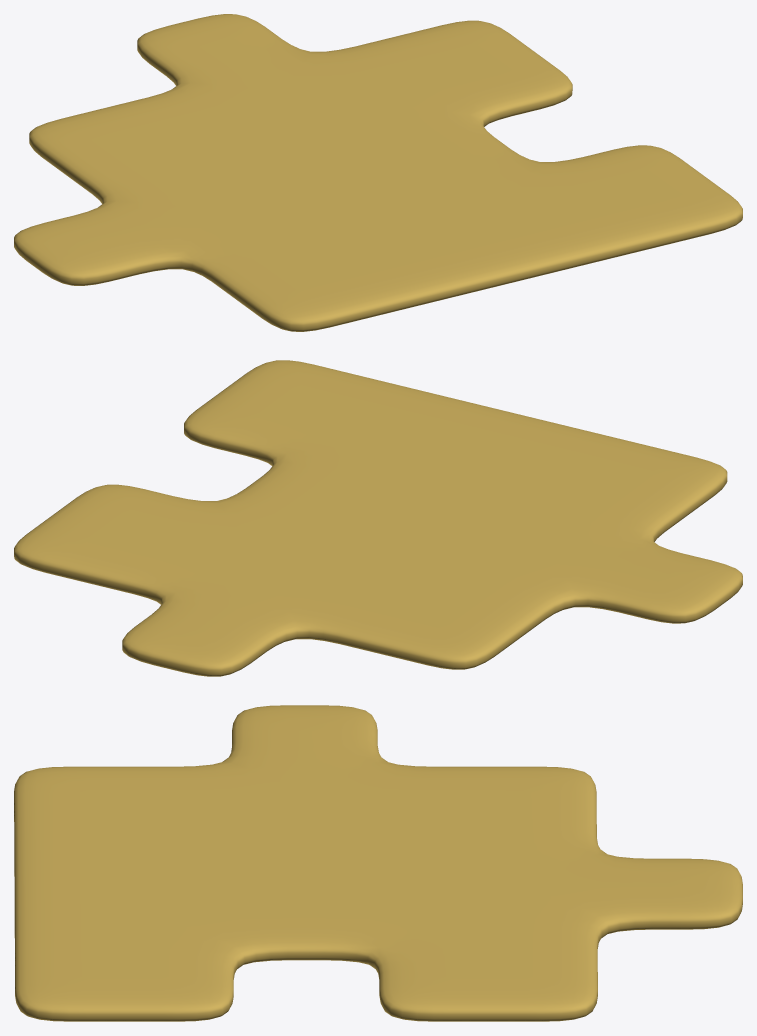
The model's file is GoldenPuzzle-12-OMMF.fbx.
The picture shows the model from 3 angles, top to bottom: view 1: azimuth 30°, elevation 25°; view 2: azimuth 150°, elevation 25°; view 3: azimuth 270°, elevation 25°; orthographic projection. The views are drawn at different scales.
Parts seen in each view (by area): view 1: Puzzle_012; view 2: Puzzle_012; view 3: Puzzle_012.
Part boxes in pixels (bbox=[...]): Puzzle_012: bbox=[14, 14, 742, 331]; Puzzle_012: bbox=[14, 360, 742, 676]; Puzzle_012: bbox=[14, 705, 742, 1021].
Bounding box in the file's own units: 0.3125 × 0.00924 × 0.3138.
